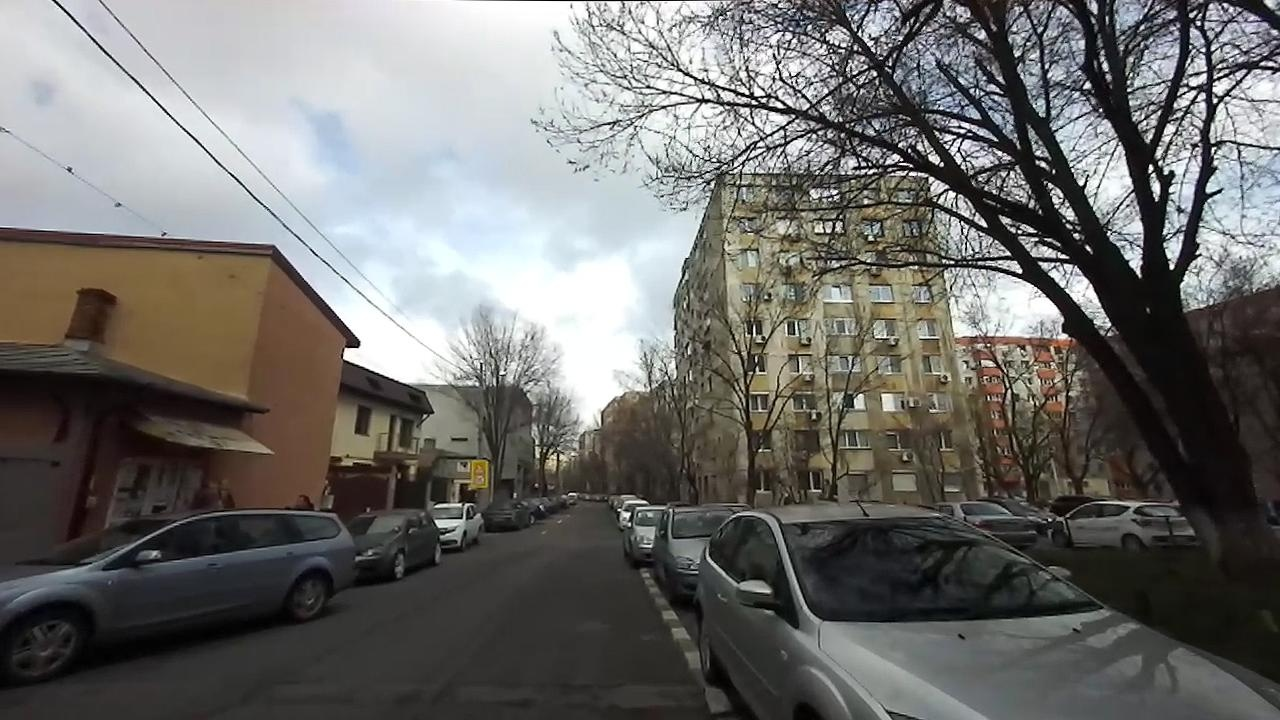pothole: (483, 680, 620, 720)
